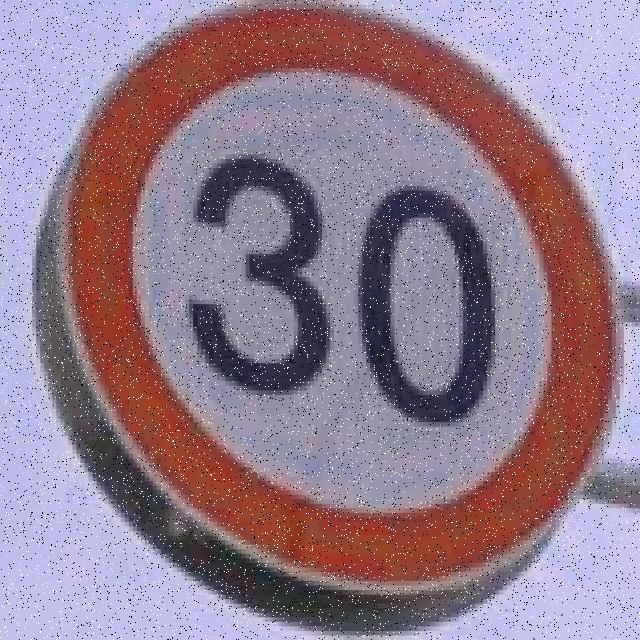Ograniczenie predkosci do 30: (68, 0, 612, 586)
